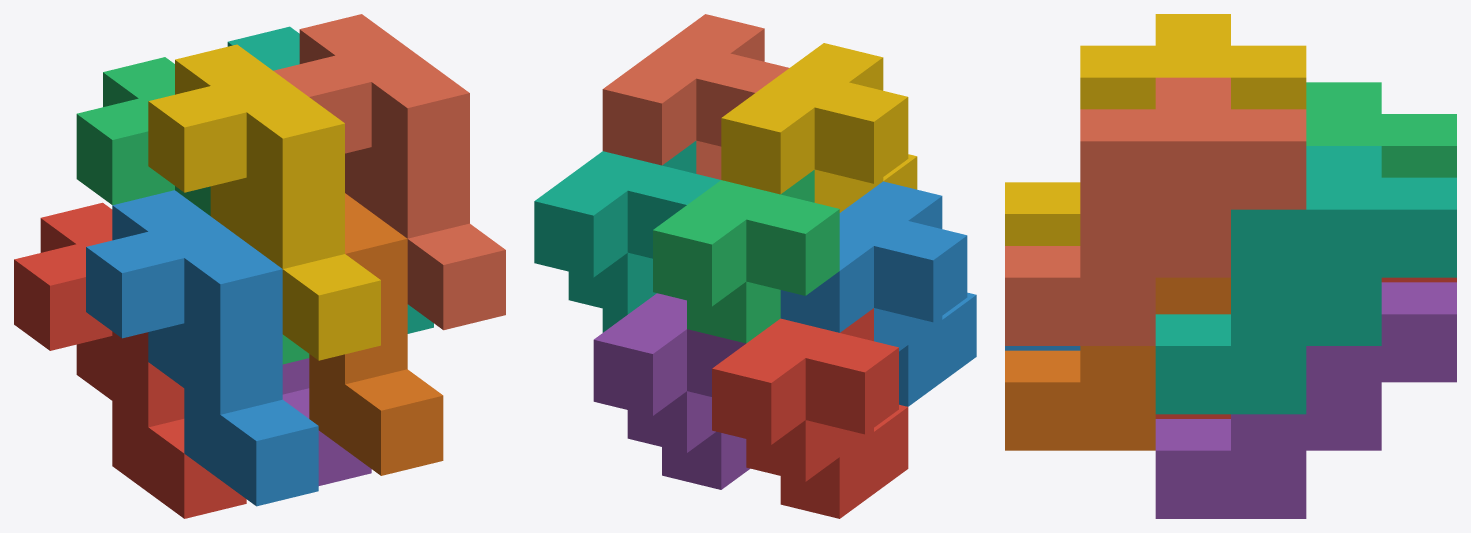
Rendered from tiling.obj.
3 views of the same model, side by side, from view 1: azimuth 30°, elevation 25°; view 2: azimuth 150°, elevation 25°; view 3: azimuth 270°, elevation 25° (orthographic). The views are drawn at different scales.
Visible parts, largest first — view 1: copy_1_domain_2, copy_1_domain_4, copy_1_domain_8, copy_1_domain_1, copy_1_domain_6, copy_1_domain_3, copy_1_domain_5, copy_1_domain_7; view 2: copy_1_domain_1, copy_1_domain_2, copy_1_domain_4, copy_1_domain_3, copy_1_domain_7, copy_1_domain_5, copy_1_domain_8; view 3: copy_1_domain_8, copy_1_domain_7, copy_1_domain_5, copy_1_domain_4, copy_1_domain_6, copy_1_domain_3, copy_1_domain_1.
Boxes of the visible parts, <box> form: copy_1_domain_2: <box>86,190,318,506</box>; copy_1_domain_4: <box>148,44,380,360</box>; copy_1_domain_8: <box>273,14,505,330</box>; copy_1_domain_1: <box>14,202,246,518</box>; copy_1_domain_6: <box>309,193,443,475</box>; copy_1_domain_3: <box>76,57,309,364</box>; copy_1_domain_5: <box>282,358,371,485</box>; copy_1_domain_7: <box>227,26,433,333</box>; copy_1_domain_1: <box>712,308,908,518</box>; copy_1_domain_2: <box>780,181,976,406</box>; copy_1_domain_4: <box>721,43,917,212</box>; copy_1_domain_3: <box>653,170,839,343</box>; copy_1_domain_7: <box>534,141,720,332</box>; copy_1_domain_5: <box>593,293,749,489</box>; copy_1_domain_8: <box>602,14,788,179</box>; copy_1_domain_8: <box>1005,77,1306,345</box>; copy_1_domain_7: <box>1155,146,1456,414</box>; copy_1_domain_5: <box>1155,282,1456,518</box>; copy_1_domain_4: <box>1005,14,1306,245</box>; copy_1_domain_6: <box>1005,277,1230,450</box>; copy_1_domain_3: <box>1306,82,1456,177</box>; copy_1_domain_1: <box>1155,277,1456,418</box>.
Size of the model in its own units: 5 by 6 by 6.
